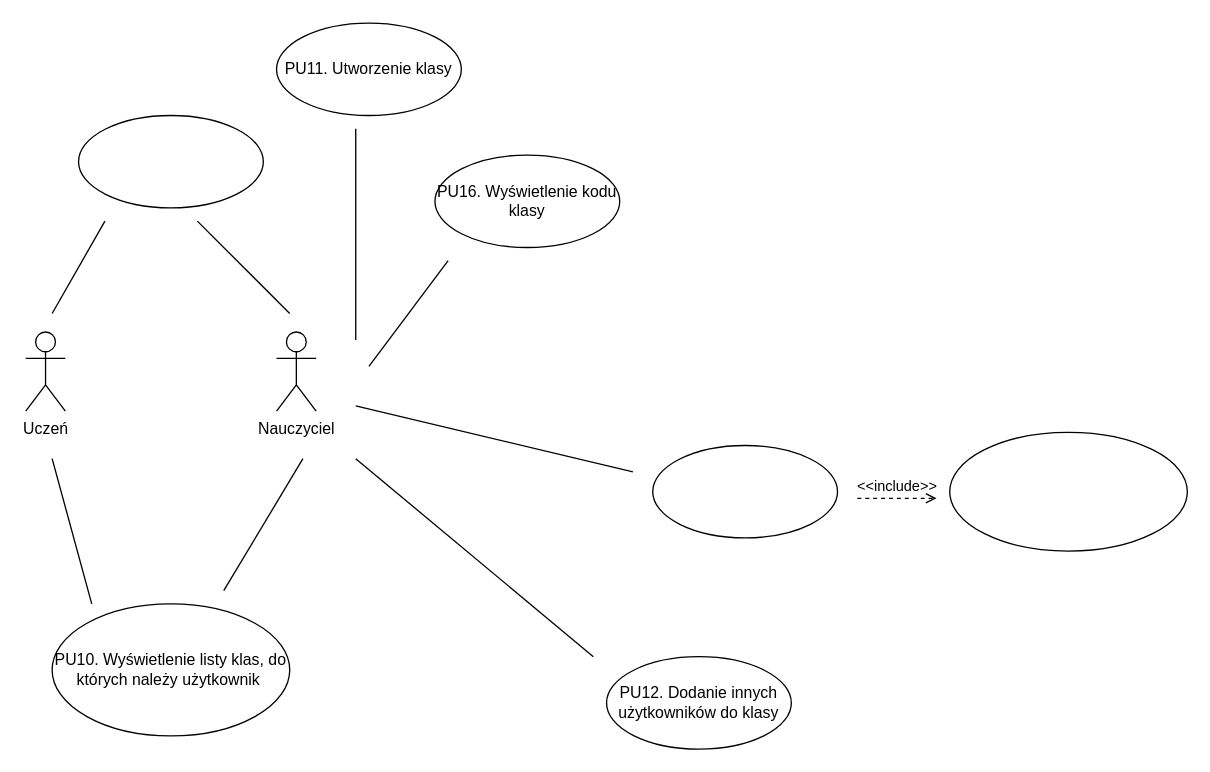
This 1210x772 diagram has some shape labels left out. The shapes that lost their labels are listed below. From the top down, each one's box as (x1, y1, x2, y2) in pixels, then its label:
(77, 114, 263, 208): PU15 . Dołączenie do klasy z wykorzystaniem kodu
(651, 444, 838, 538): PU13.Usuwanie innych użytkowników z klasy
(948, 431, 1187, 551): PU14. Wyświetlenie listy użytkowników należących do klasy
